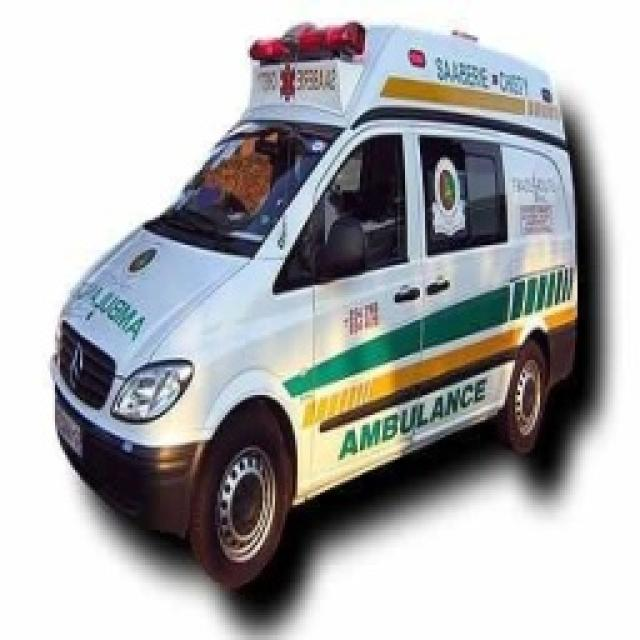emergency-vehicle: (38, 17, 592, 583)
